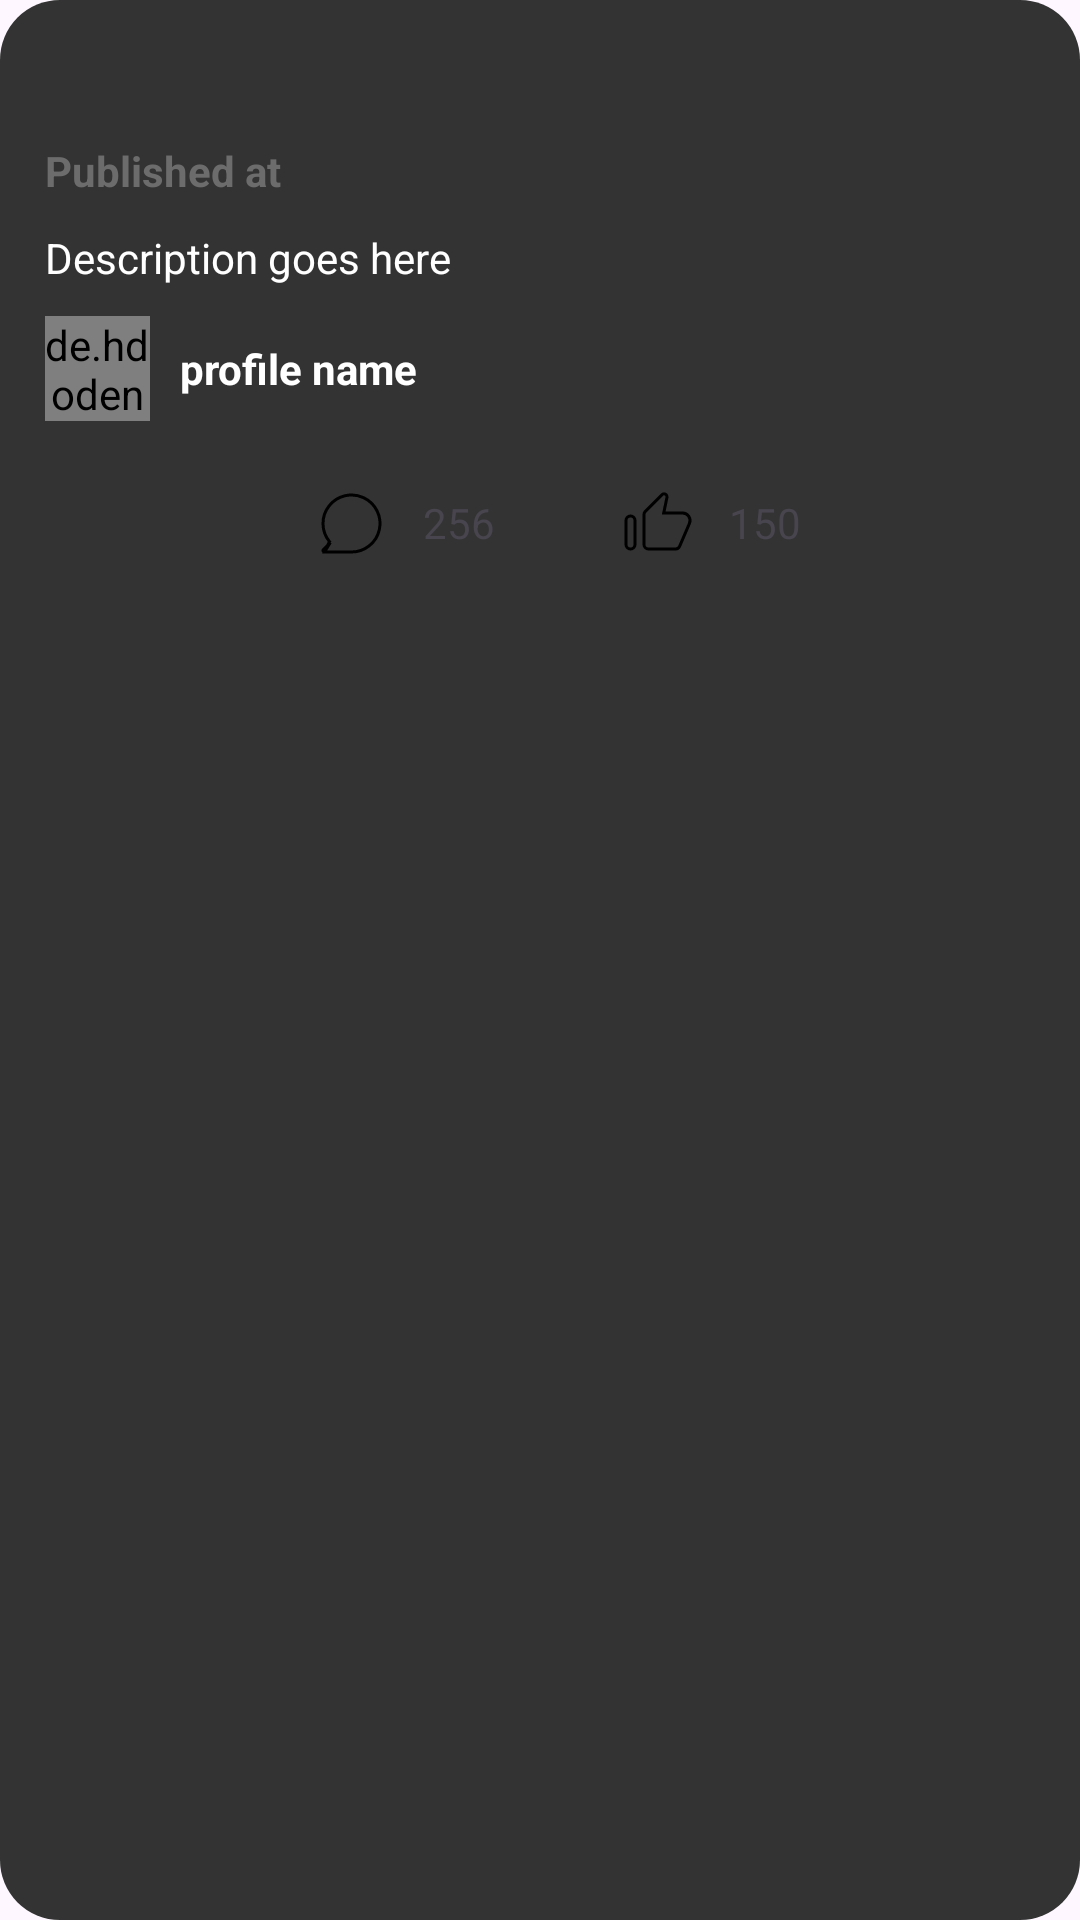

Where to tap for icons on this 1080×1920 app screen, as [x,y]:
comment: [351,523]
like: [658,521]
